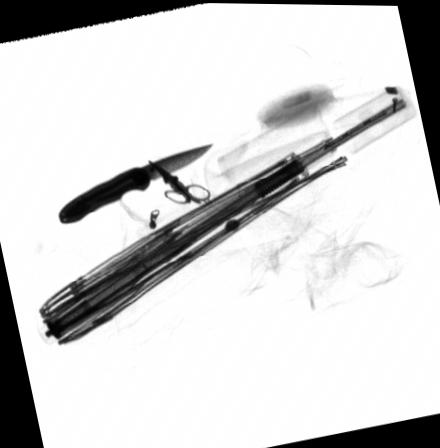Knife: (56, 142, 213, 224)
Scissors: (146, 158, 208, 203)
